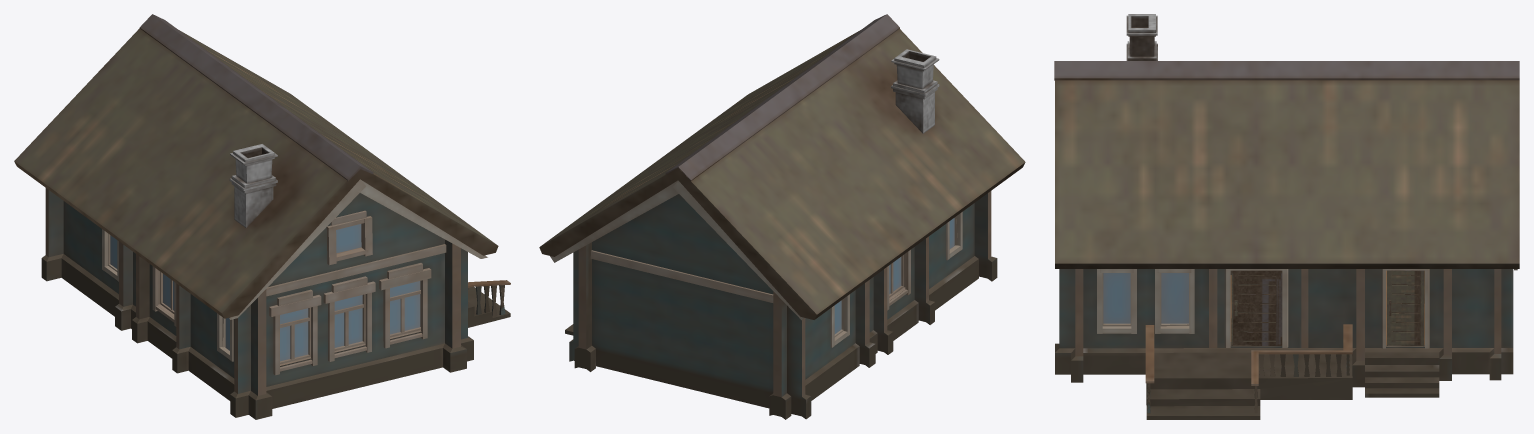
File: nha3 vao dc.fbx
3 renders of one model, left to right at view 1: azimuth 30°, elevation 25°; view 2: azimuth 150°, elevation 25°; view 3: azimuth 270°, elevation 25°, orthographic. The views are drawn at different scales.
Parts seen in each view (by area): view 1: крыша, Object001, декор, полпотолок, печь; view 2: крыша, Object001, декор, печь, полпотолок; view 3: крыша, Object001, декор, PivotDoor001, полпотолок, PivotDoor001.016, печь.
Part boxes in pixels (bbox=[...]): крыша: bbox=[14, 14, 498, 318]; Object001: bbox=[41, 190, 510, 419]; декор: bbox=[45, 179, 510, 395]; полпотолок: bbox=[110, 224, 420, 361]; печь: bbox=[229, 144, 277, 227]; крыша: bbox=[539, 14, 1025, 319]; Object001: bbox=[565, 193, 997, 419]; декор: bbox=[550, 180, 991, 397]; печь: bbox=[891, 49, 939, 133]; полпотолок: bbox=[834, 218, 954, 334]; крыша: bbox=[1054, 61, 1519, 268]; Object001: bbox=[1055, 269, 1513, 419]; декор: bbox=[1075, 269, 1517, 385]; PivotDoor001: bbox=[1233, 271, 1280, 345]; полпотолок: bbox=[1103, 270, 1424, 345]; PivotDoor001.016: bbox=[1388, 271, 1423, 345]; печь: bbox=[1126, 14, 1157, 60].
Bounding box in the file's own units: 514 × 340 × 557.
